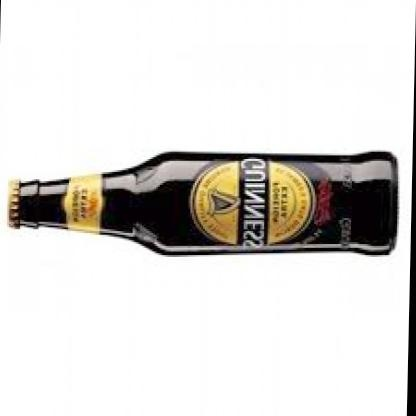trash: (9, 152, 397, 253)
